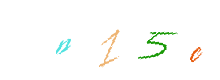1: (69, 0, 149, 80)
5: (100, 0, 180, 80)
C: (117, 0, 197, 80)
P: (62, 0, 142, 80)
